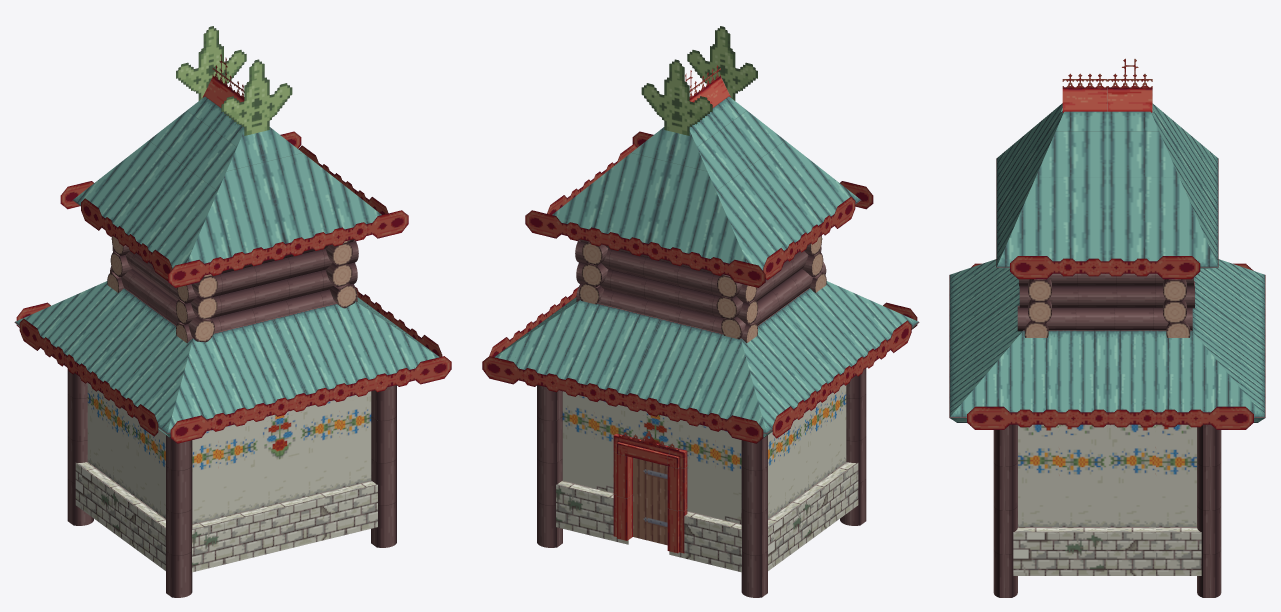
The model's file is stone_house_medium.fbx.
3 views of the same model, side by side, from view 1: azimuth 30°, elevation 25°; view 2: azimuth 150°, elevation 25°; view 3: azimuth 270°, elevation 25° (orthographic). The views are drawn at different scales.
Parts seen in each view (by area): view 1: stone_house_medium; view 2: stone_house_medium; view 3: stone_house_medium.
Boxes of the visible parts, x1=… form: stone_house_medium: x1=14, y1=26, x2=451, y2=597; stone_house_medium: x1=482, y1=26, x2=919, y2=597; stone_house_medium: x1=949, y1=58, x2=1265, y2=597.
Size of the model in its own units: 705 by 1159 by 659.
